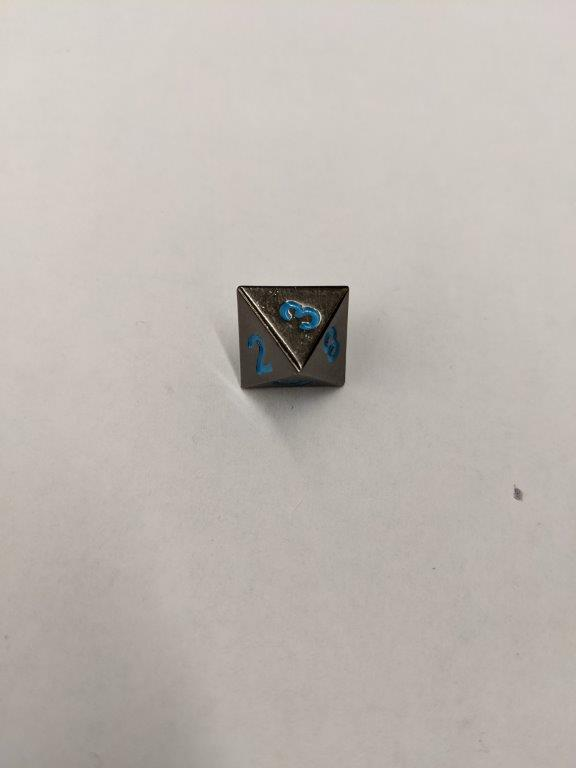d8-3: (234, 283, 350, 391)
